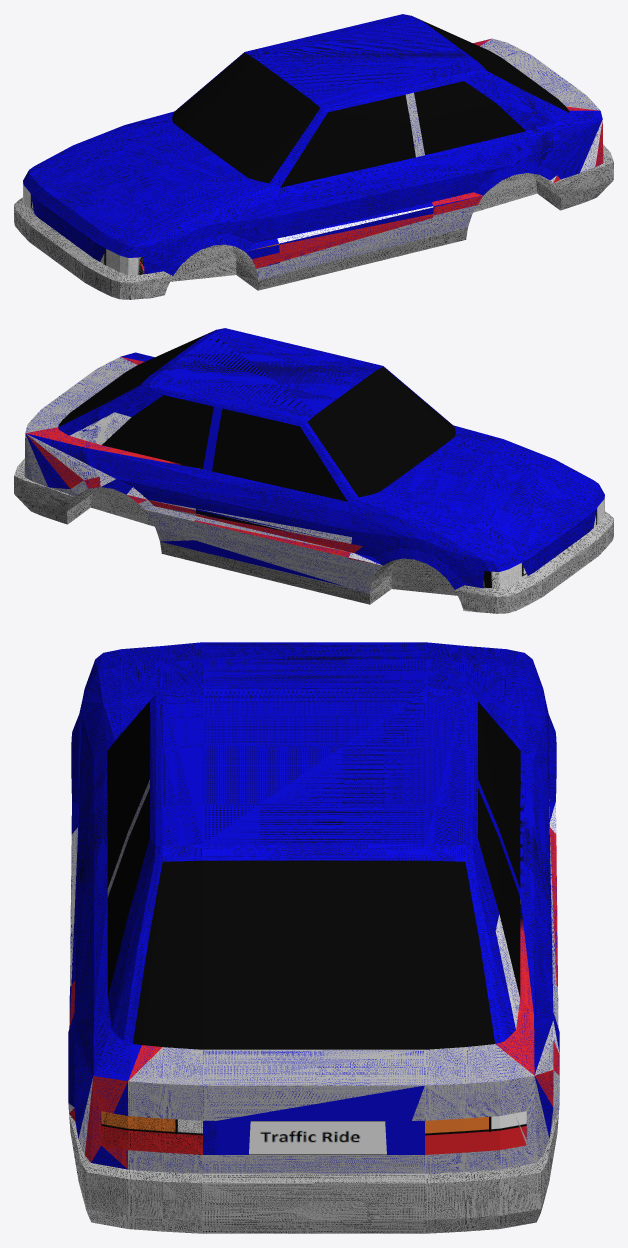
File: car2.fbx
3 renders of one model, top to bottom at view 1: azimuth 30°, elevation 25°; view 2: azimuth 150°, elevation 25°; view 3: azimuth 270°, elevation 25°, orthographic. The views are drawn at different scales.
Parts seen in each view (by area): view 1: instance_33_download_mid_ab1ba6bbfb23a68874e8e820a94f945d_ct; view 2: instance_33_download_mid_ab1ba6bbfb23a68874e8e820a94f945d_ct; view 3: instance_33_download_mid_ab1ba6bbfb23a68874e8e820a94f945d_ct.
Part boxes in pixels (x1=…): instance_33_download_mid_ab1ba6bbfb23a68874e8e820a94f945d_ct: x1=14, y1=14, x2=613, y2=299; instance_33_download_mid_ab1ba6bbfb23a68874e8e820a94f945d_ct: x1=14, y1=328, x2=613, y2=613; instance_33_download_mid_ab1ba6bbfb23a68874e8e820a94f945d_ct: x1=68, y1=642, x2=559, y2=1233.
Bounding box in the file's own units: 2261 × 652 × 940.
